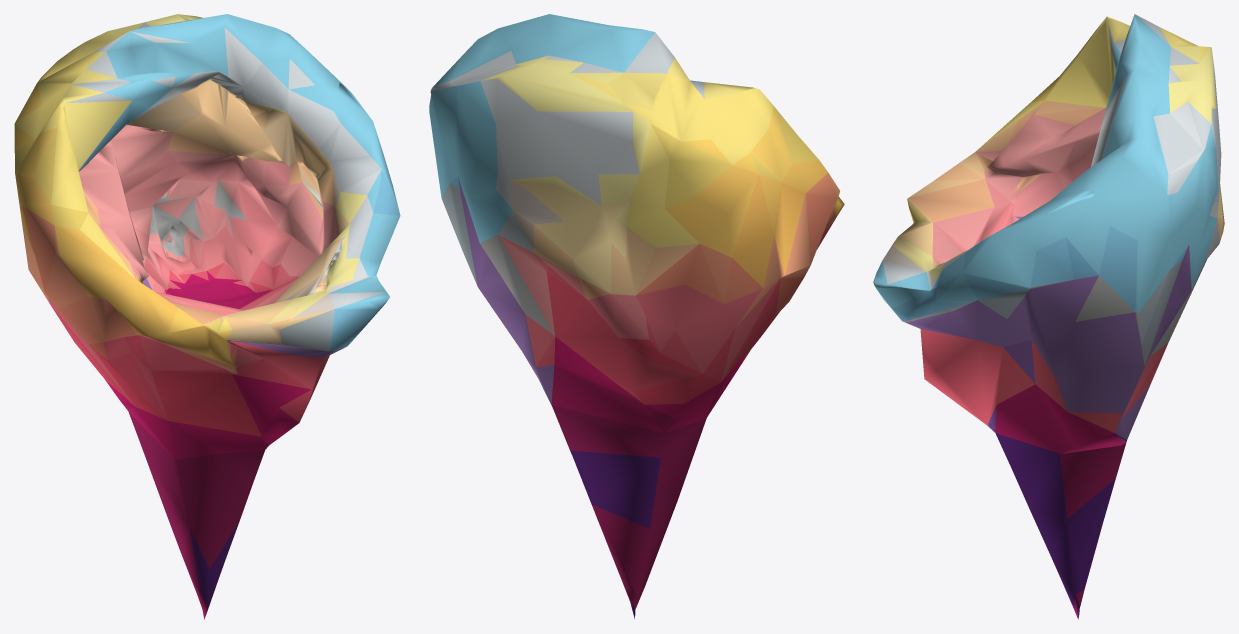
Rendered from fx_implosion_cone.glb.
3 views of the same model, side by side, from view 1: azimuth 30°, elevation 25°; view 2: azimuth 150°, elevation 25°; view 3: azimuth 270°, elevation 25° (orthographic). The views are drawn at different scales.
Parts seen in each view (by area): view 1: Mesh_0; view 2: Mesh_0; view 3: Mesh_0.
Boxes of the visible parts, left/top/right/bottom form: Mesh_0: left=14, top=14, right=400, bottom=619; Mesh_0: left=429, top=14, right=844, bottom=619; Mesh_0: left=873, top=14, right=1224, bottom=619.
Size of the model in its own units: 0.556 by 0.9 by 0.4917.
Materials: 1 (1 with a texture image).
